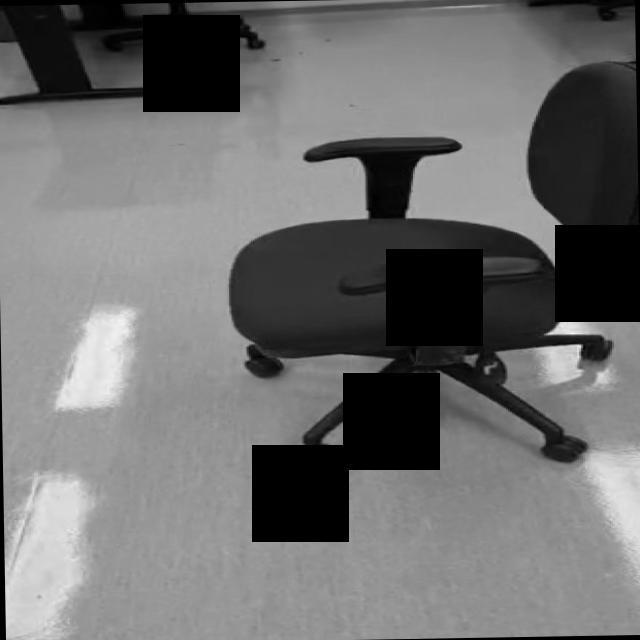chair: (220, 60, 640, 471)
